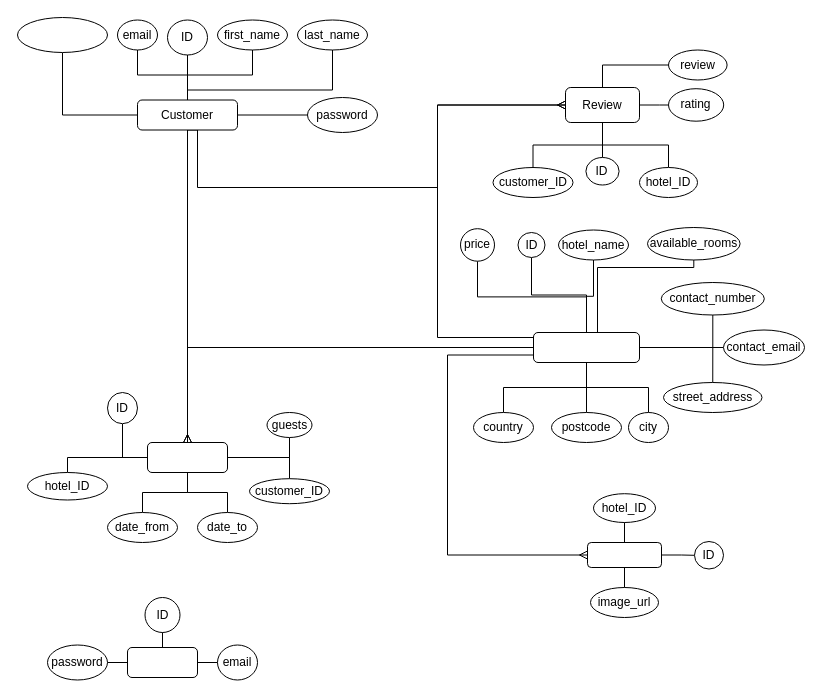
The diagram is 822 pixels wide and 698 high, and some of its shapes have lost their labels. Here are the shapes that lost their labels. From the top down, the centre of each, then its label:
At (62,34): "phone_number".
At (586,347): "Hotel".
At (187,457): "Booking".
At (624,555): "Gallery".
At (162,662): "Admin".
